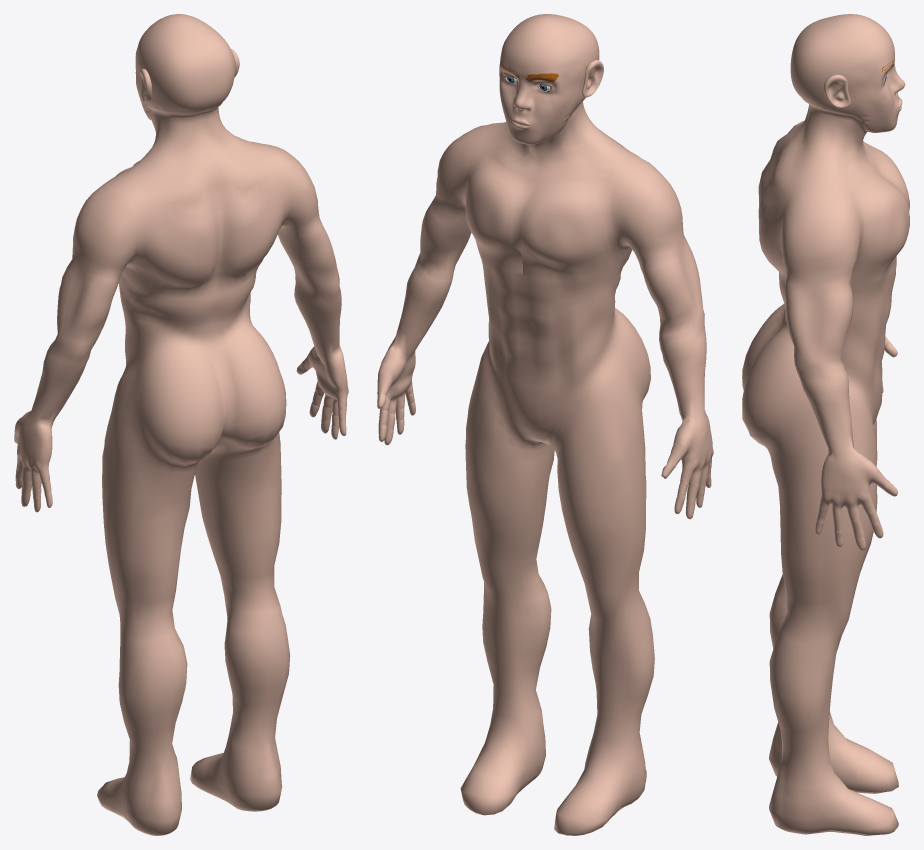
Rendered from dr-temporary-export.fbx.
The picture shows the model from 3 angles, left to right: view 1: azimuth 30°, elevation 25°; view 2: azimuth 150°, elevation 25°; view 3: azimuth 270°, elevation 25°; orthographic projection.
Parts seen in each view (by area): view 1: Body; view 2: Body; view 3: Body, Ear.
Part boxes in pixels (box(x1,y1,x2,y2)): Body: box(14, 14, 348, 835); Body: box(377, 14, 713, 835); Body: box(742, 14, 909, 835); Ear: box(823, 74, 850, 108).
Bounding box in the file's own units: 168 × 399 × 76.52.
5 materials, 1 textured.
